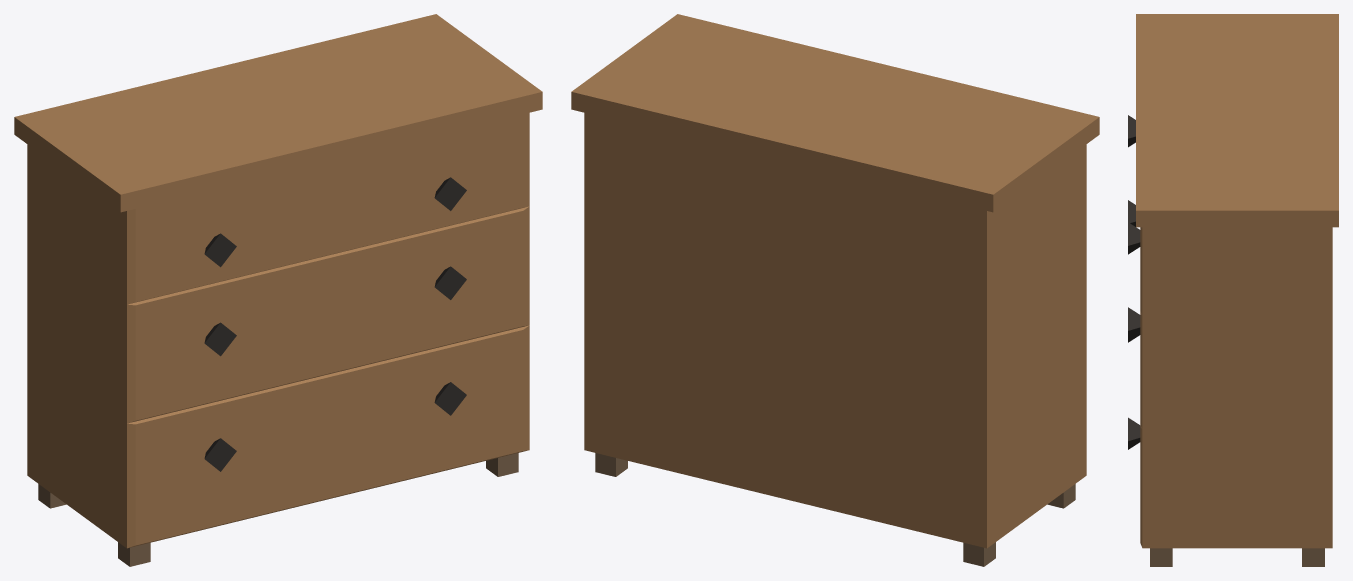
File: Drawer_1B.fbx
The picture shows the model from 3 angles, left to right: view 1: azimuth 30°, elevation 25°; view 2: azimuth 150°, elevation 25°; view 3: azimuth 270°, elevation 25°; orthographic projection. The views are drawn at different scales.
Visible parts, largest first — view 1: polySurface2327; view 2: polySurface2327; view 3: polySurface2327.
Part boxes in pixels (bbox=[...]): polySurface2327: bbox=[14, 14, 542, 566]; polySurface2327: bbox=[571, 14, 1099, 566]; polySurface2327: bbox=[1128, 14, 1338, 566].
Bounding box in the file's own units: 1.83 × 1.58 × 0.8313.
1 material, 1 textured.
